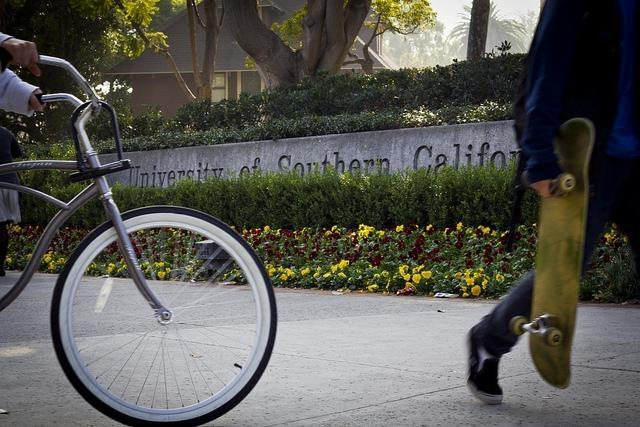bicycle: (8, 58, 270, 414)
